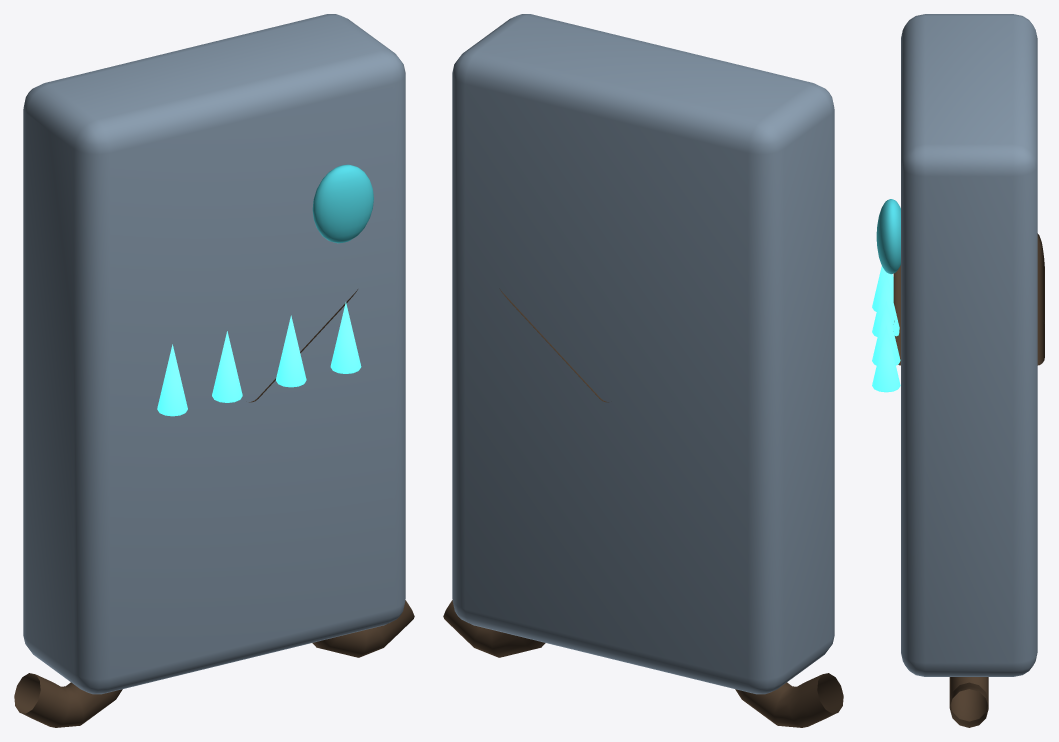
The model's file is mimic_v4.glb.
The picture shows the model from 3 angles, left to right: view 1: azimuth 30°, elevation 25°; view 2: azimuth 150°, elevation 25°; view 3: azimuth 270°, elevation 25°; orthographic projection. The views are drawn at different scales.
Visible parts, largest first — view 1: DOOR_BODY_PRIMARY, DOOR_EYE_ACCENT, DOOR_LEG_SECONDARY, DOOR_LEG_SECONDARY.001, DOOR_TOOTH_EMISSIVE.002, DOOR_TOOTH_EMISSIVE, DOOR_TOOTH_EMISSIVE.001, DOOR_TOOTH_EMISSIVE.003; view 2: DOOR_BODY_PRIMARY, DOOR_LEG_SECONDARY, DOOR_LEG_SECONDARY.001; view 3: DOOR_BODY_PRIMARY, DOOR_LEG_SECONDARY.001, DOOR_EYE_ACCENT, DOOR_MOUTH_SECONDARY, DOOR_TOOTH_EMISSIVE.003, DOOR_TOOTH_EMISSIVE.001, DOOR_TOOTH_EMISSIVE.002, DOOR_TOOTH_EMISSIVE.
Part boxes in pixels (x1,y1,x2,y2): DOOR_BODY_PRIMARY: (23, 14, 405, 694); DOOR_EYE_ACCENT: (312, 164, 373, 243); DOOR_LEG_SECONDARY: (14, 673, 122, 727); DOOR_LEG_SECONDARY.001: (312, 600, 414, 657); DOOR_TOOTH_EMISSIVE.002: (276, 315, 306, 387); DOOR_TOOTH_EMISSIVE: (157, 344, 187, 416); DOOR_TOOTH_EMISSIVE.001: (212, 331, 242, 402); DOOR_TOOTH_EMISSIVE.003: (330, 302, 361, 373); DOOR_BODY_PRIMARY: (452, 14, 834, 694); DOOR_LEG_SECONDARY: (735, 673, 843, 727); DOOR_LEG_SECONDARY.001: (443, 600, 545, 657); DOOR_BODY_PRIMARY: (901, 14, 1037, 676); DOOR_LEG_SECONDARY.001: (949, 677, 988, 727); DOOR_EYE_ACCENT: (876, 199, 900, 274); DOOR_MOUTH_SECONDARY: (893, 233, 1044, 365); DOOR_TOOTH_EMISSIVE.003: (872, 325, 900, 392); DOOR_TOOTH_EMISSIVE.001: (872, 272, 899, 336); DOOR_TOOTH_EMISSIVE.002: (872, 301, 900, 365); DOOR_TOOTH_EMISSIVE: (872, 266, 893, 311).
Bounding box in the file's own units: 1.71 × 2.61 × 0.7083.
